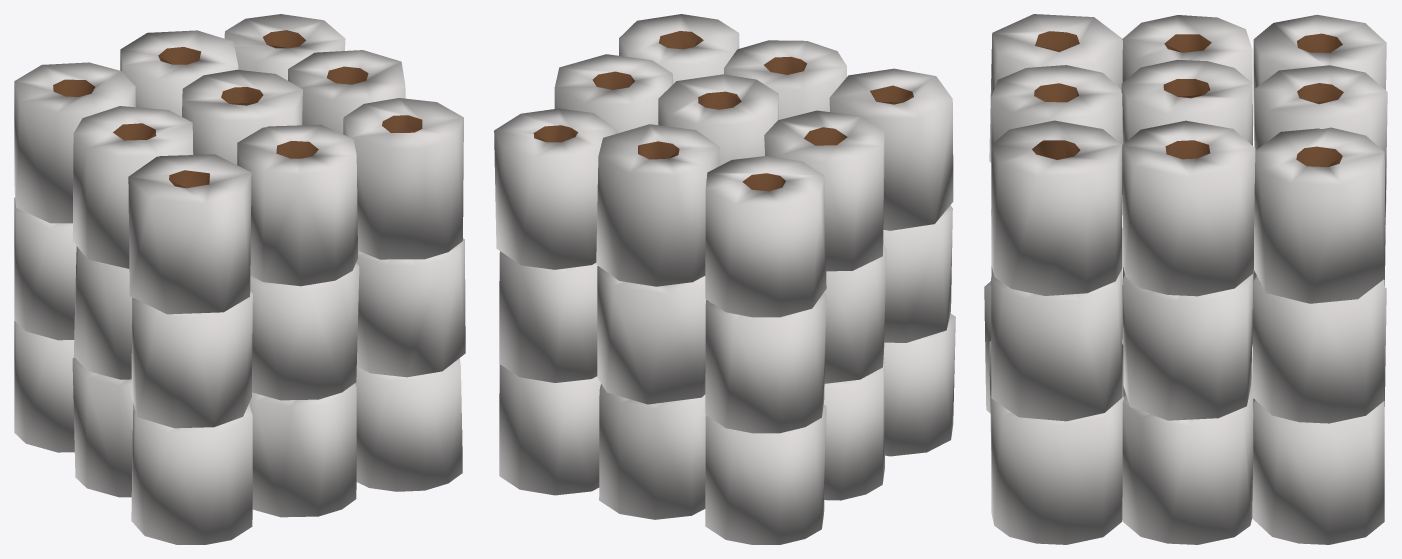
File: toiletPaper.glb
3 views of the same model, side by side, from view 1: azimuth 30°, elevation 25°; view 2: azimuth 150°, elevation 25°; view 3: azimuth 270°, elevation 25° (orthographic). The views are drawn at different scales.
Visible parts, largest first — view 1: RollStandard12; view 2: RollStandard12; view 3: RollStandard12.
Part boxes in pixels (left/top/right/bottom): RollStandard12: left=14, top=14, right=465, bottom=544; RollStandard12: left=494, top=14, right=955, bottom=544; RollStandard12: left=984, top=14, right=1387, bottom=544.
Bounding box in the file's own units: 0.0313 × 0.0321 × 0.0311.
